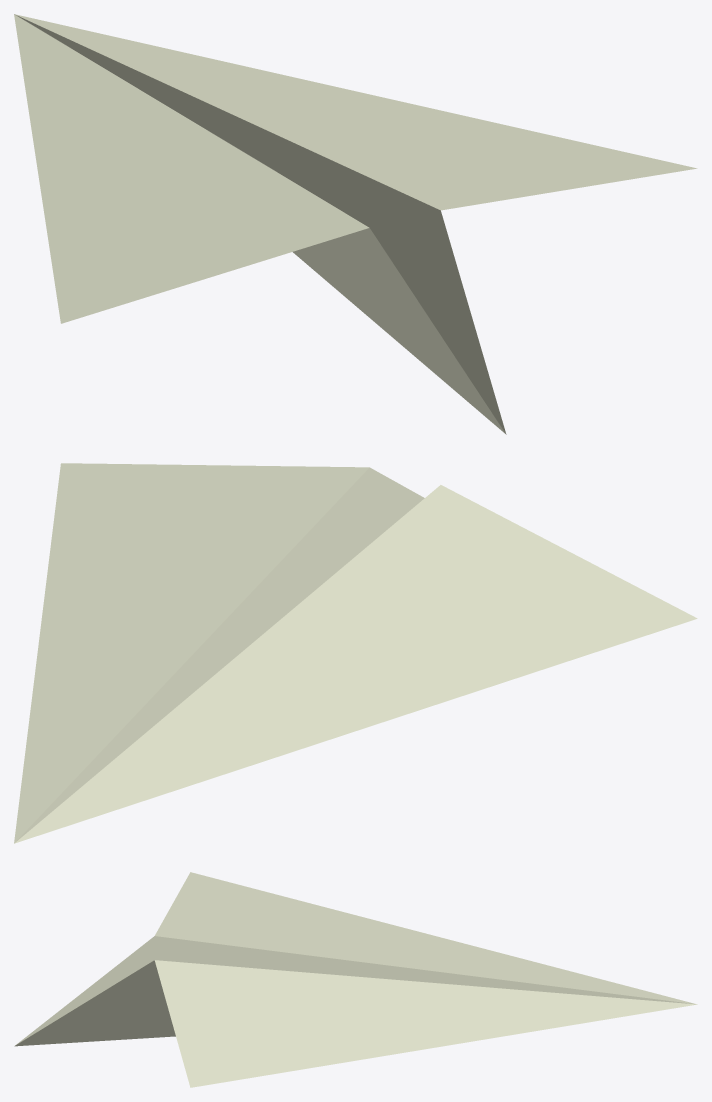
3 renders of one model, top to bottom at view 1: azimuth 30°, elevation 25°; view 2: azimuth 150°, elevation 25°; view 3: azimuth 270°, elevation 25°, orthographic. The views are drawn at different scales.
Visible parts, largest first — view 1: Plane; view 2: Plane; view 3: Plane.
Part boxes in pixels (box(x1,y1,x2,y2)): Plane: box(14, 14, 697, 434); Plane: box(14, 463, 697, 843); Plane: box(14, 872, 697, 1087).
Size of the model in its own units: 210 by 44.6 by 281.
